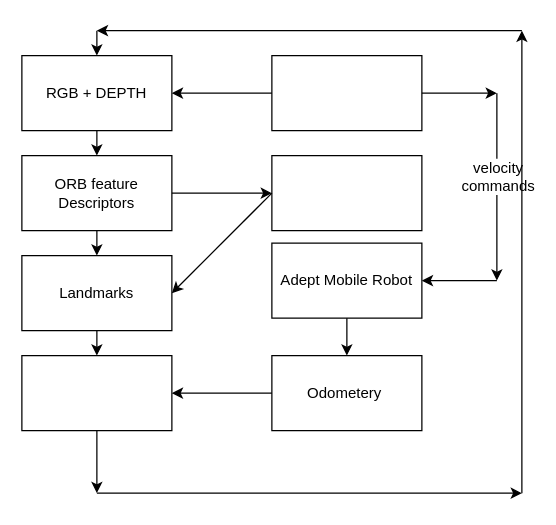
This 556x525 diagram has some shape labels left out. The shapes that lost their labels are listed below. From the top down, each one's box as (x1, y1, x2, y2) in pixels, then its label:
(271, 54, 422, 131): ROS
(271, 154, 422, 231): Data Association
(21, 354, 172, 431): State Update RBPF
